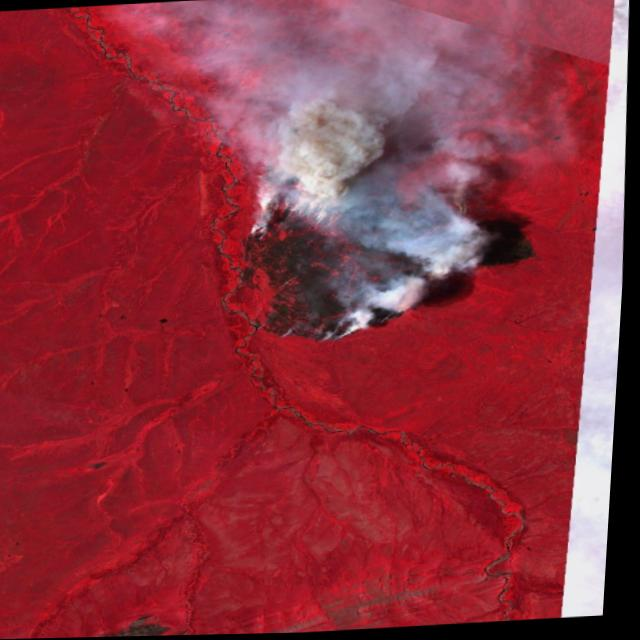fire: (243, 151, 349, 244), (271, 289, 433, 348), (422, 201, 479, 242)
